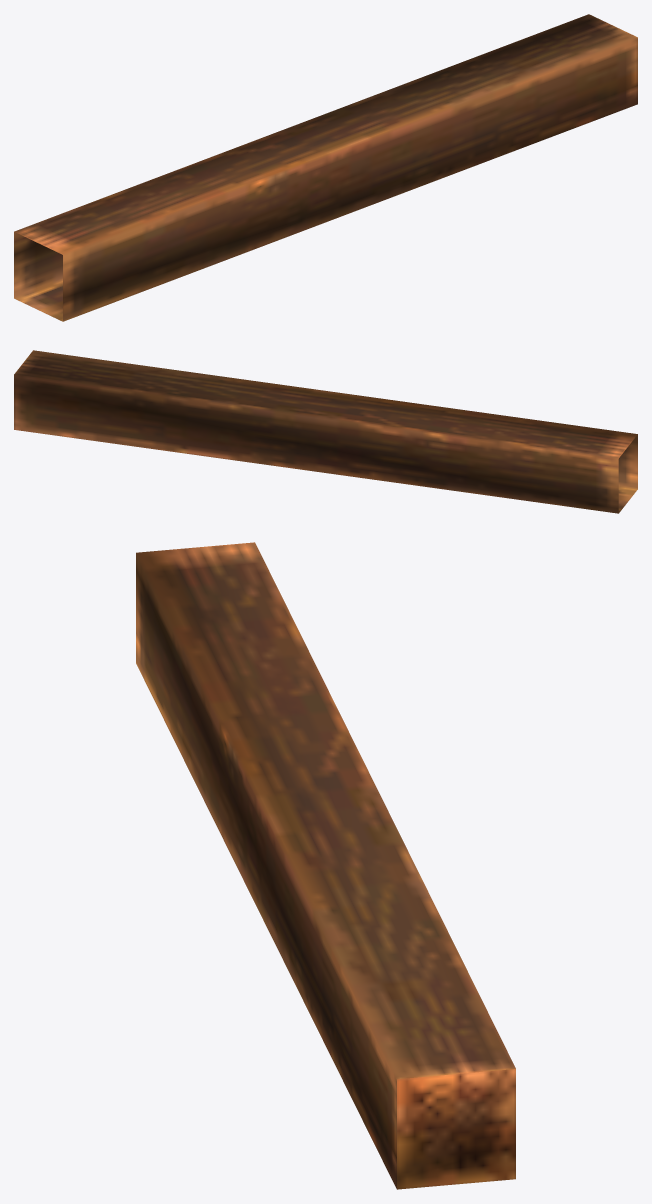
File: SWORDLIGHT20_JAILBRACE132.fbx
The picture shows the model from 3 angles, top to bottom: view 1: azimuth 30°, elevation 25°; view 2: azimuth 150°, elevation 25°; view 3: azimuth 270°, elevation 25°; orthographic projection. The views are drawn at different scales.
Parts seen in each view (by area): view 1: SWORDLIGHT20_JAILBRACE132; view 2: SWORDLIGHT20_JAILBRACE132; view 3: SWORDLIGHT20_JAILBRACE132.
Boxes of the visible parts, x1,y1,x2,y2 form: SWORDLIGHT20_JAILBRACE132: [14, 14, 637, 321]; SWORDLIGHT20_JAILBRACE132: [14, 350, 637, 513]; SWORDLIGHT20_JAILBRACE132: [136, 542, 515, 1189].
Size of the model in its own units: 41753 by 4000 by 12499.
1 material, 1 textured.
